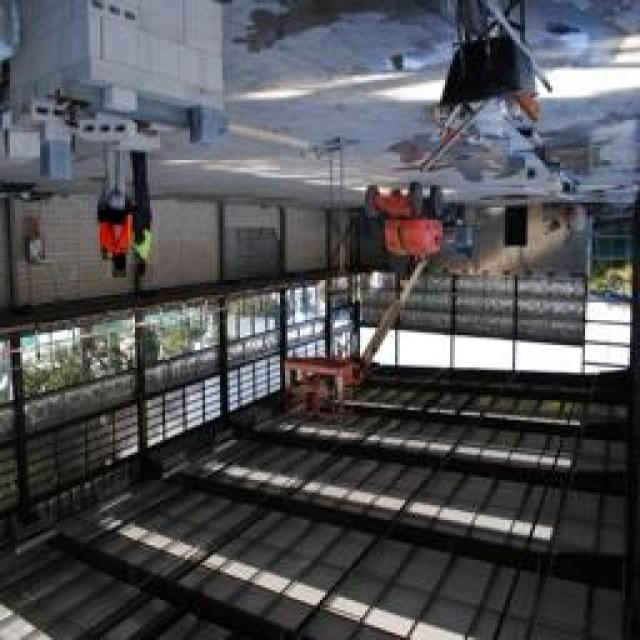Helmet: (100, 210, 138, 252), (126, 248, 154, 282), (112, 248, 130, 277)
Safety Vest: (129, 212, 159, 264)
